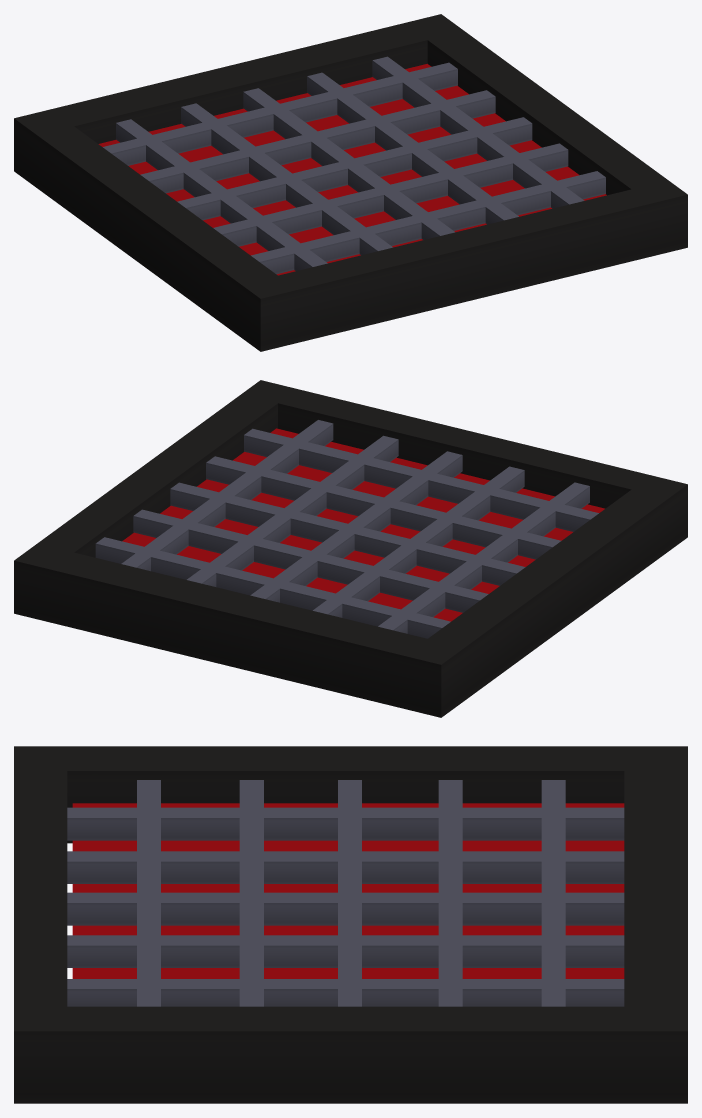
File: x_grid_floor.fbx
The picture shows the model from 3 angles, top to bottom: view 1: azimuth 30°, elevation 25°; view 2: azimuth 150°, elevation 25°; view 3: azimuth 270°, elevation 25°; orthographic projection. The views are drawn at different scales.
Parts seen in each view (by area): view 1: x_grid_floor_baked; view 2: x_grid_floor_baked; view 3: x_grid_floor_baked.
Part boxes in pixels (x1,y1,x2,y2): x_grid_floor_baked: [14, 14, 687, 351]; x_grid_floor_baked: [14, 380, 687, 717]; x_grid_floor_baked: [14, 746, 687, 1103].
Size of the model in its own units: 1 by 0.1192 by 1.
